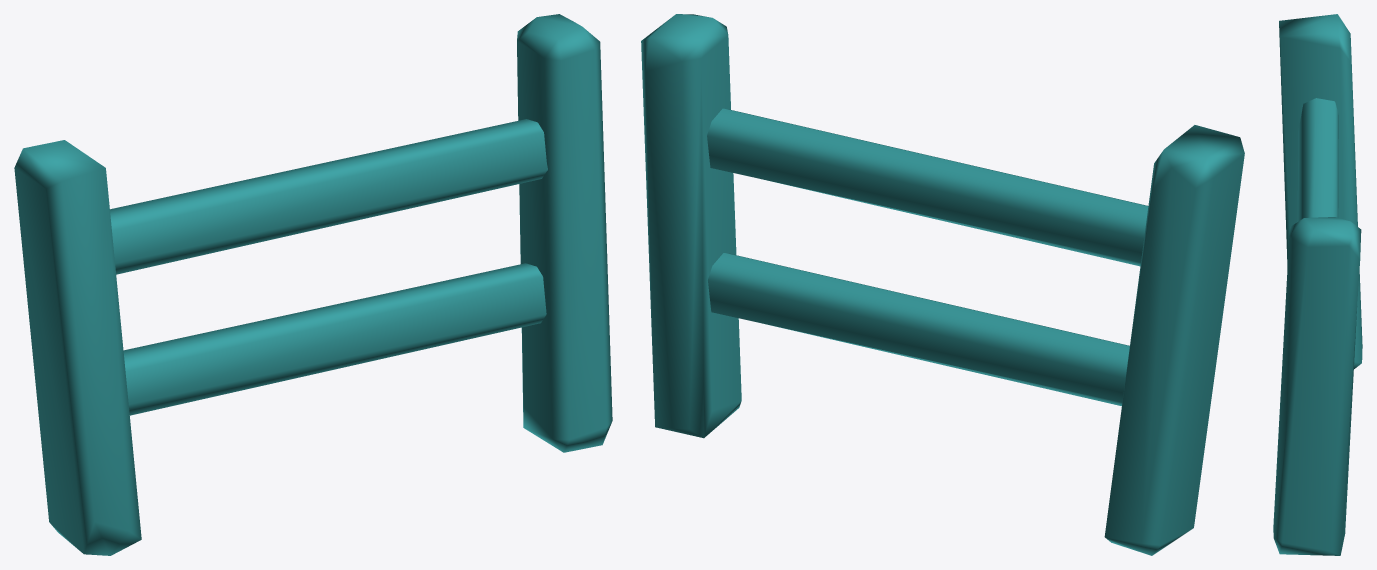
File: SM_Construction_Kit_Fence_02.fbx
3 views of the same model, side by side, from view 1: azimuth 30°, elevation 25°; view 2: azimuth 150°, elevation 25°; view 3: azimuth 270°, elevation 25° (orthographic). The views are drawn at different scales.
Visible parts, largest first — view 1: polySurface2262; view 2: polySurface2262; view 3: polySurface2262.
Part boxes in pixels (x1=…): polySurface2262: x1=14, y1=14, x2=612, y2=555; polySurface2262: x1=641, y1=14, x2=1244, y2=555; polySurface2262: x1=1273, y1=14, x2=1362, y2=555.
Bounding box in the file's own units: 234 × 159 × 39.37.
